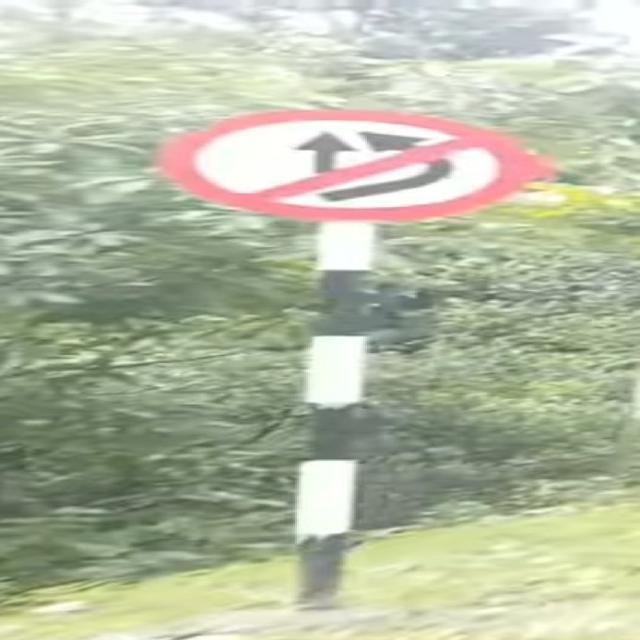overtaking prohibited: (153, 104, 544, 225)
